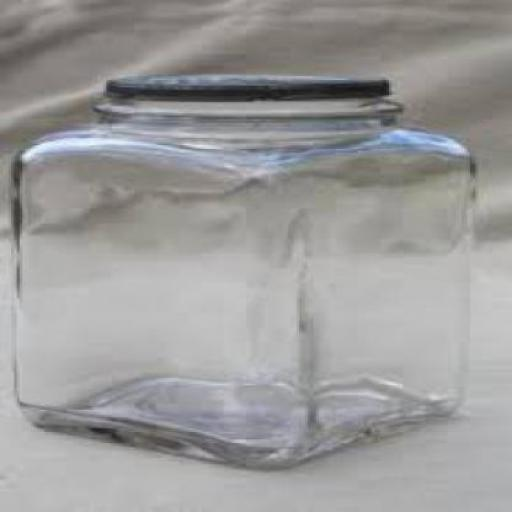glass: (11, 91, 473, 471)
metal: (101, 71, 386, 100)
